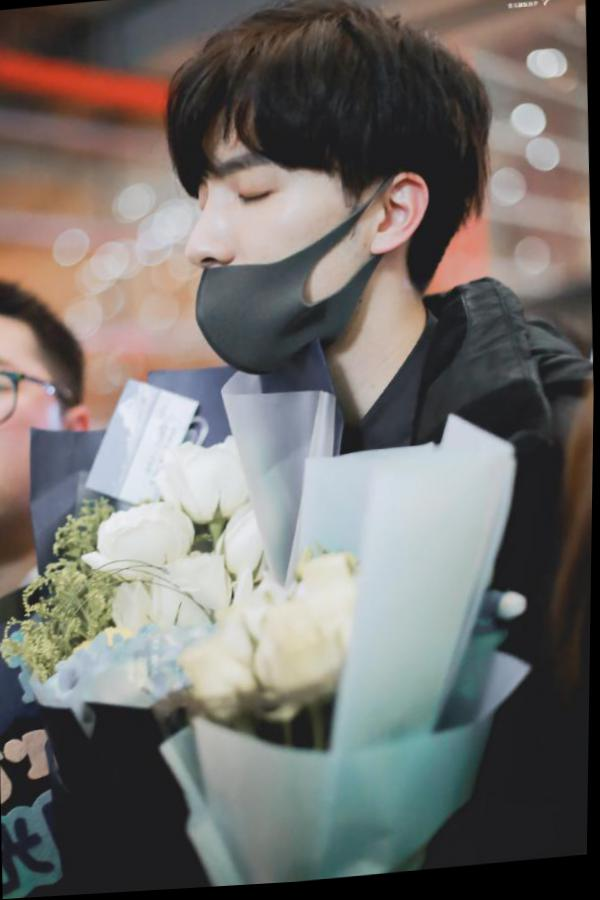WRONG: (182, 113, 381, 382)
